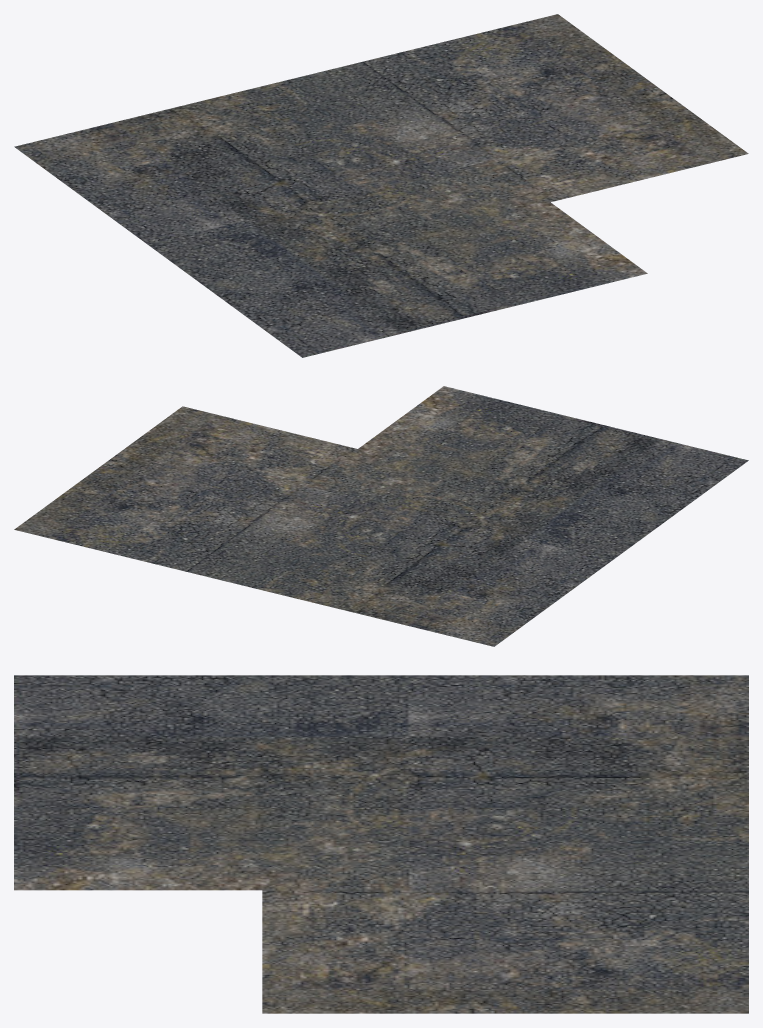
Rendered from RoofFloor.FBX.
3 views of the same model, one above another, from view 1: azimuth 30°, elevation 25°; view 2: azimuth 150°, elevation 25°; view 3: azimuth 270°, elevation 25° (orthographic). The views are drawn at different scales.
Visible parts, largest first — view 1: RoofFloor; view 2: RoofFloor; view 3: RoofFloor.
Boxes of the visible parts, x1=… form: RoofFloor: x1=14, y1=14, x2=748, y2=357; RoofFloor: x1=14, y1=386, x2=748, y2=646; RoofFloor: x1=14, y1=675, x2=748, y2=1013.
Size of the model in its own units: 1748 by 9.83e-14 by 1606.
